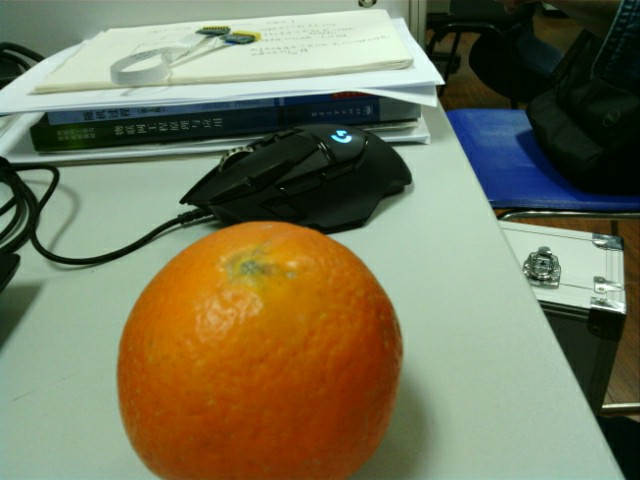normal_orange: (116, 222, 401, 480)
